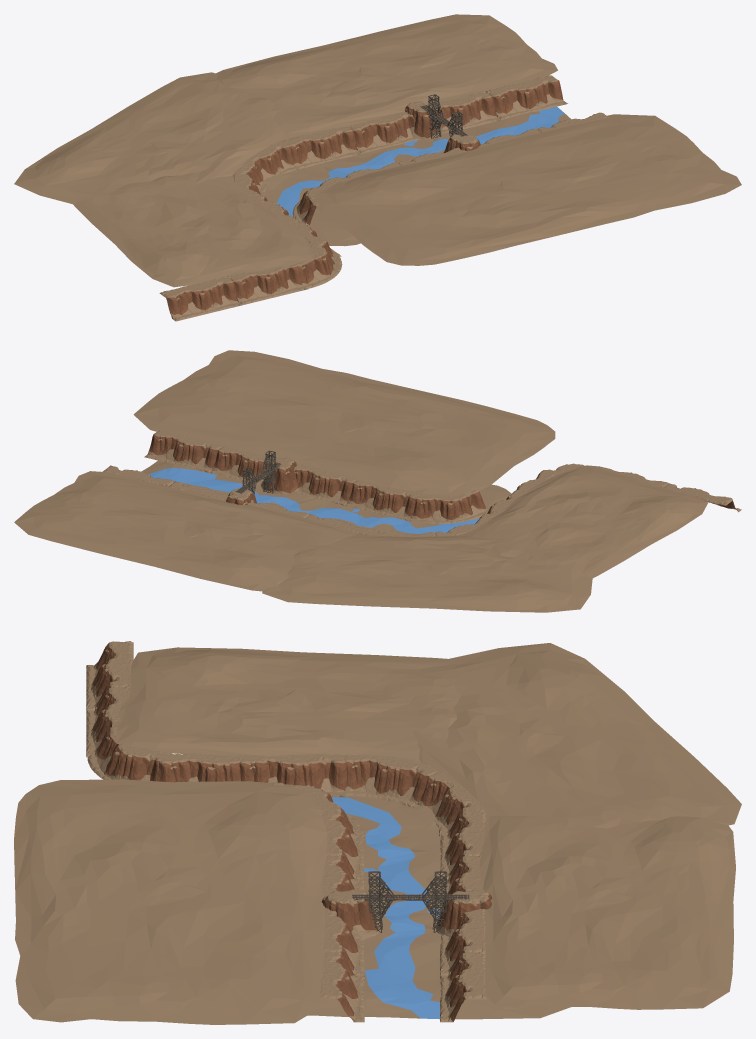
File: kopru.fbx
The picture shows the model from 3 angles, top to bottom: view 1: azimuth 30°, elevation 25°; view 2: azimuth 150°, elevation 25°; view 3: azimuth 270°, elevation 25°; orthographic projection. The views are drawn at different scales.
Parts seen in each view (by area): view 1: SM_Env_Sand_Ground_016, SM_Env_Sand_Ground_017, SM_Env_Sand_Ground_018, SM_Env_Sand_Ground_019, SM_Env_Sand_Ground_020, SM_Env_Sand_Ground_014, SM_Env_Cliff_Straight_019, SM_Env_Cliff_Straight_005, SM_Env_Cliff_Straight_006, SM_Env_Cliff_Straight_018, SM_Env_Cliff_Straight_013, SM_Env_Cliff_Straight_004 (+4 smaller); view 2: SM_Env_Sand_Ground_016, SM_Env_Sand_Ground_017, SM_Env_Sand_Ground_018, SM_Env_Sand_Ground_019, SM_Env_Sand_Ground_014, SM_Env_Sand_Ground_020, SM_Env_Cliff_Straight_009, SM_Env_Cliff_Straight_014, SM_Env_Cliff_Straight_010, SM_Env_Cliff_Straight_008, SM_Env_Cliff_Straight_007, SM_Env_Cliff_Cap_003 (+5 smaller); view 3: SM_Env_Sand_Ground_016, SM_Env_Sand_Ground_017, SM_Env_Sand_Ground_018, SM_Env_Sand_Ground_019, SM_Env_Sand_Ground_014, SM_Env_Sand_Ground_020, SM_Env_Cliff_Straight_013, SM_Env_Cliff_Straight_015, SM_Env_Cliff_Straight_016, SM_Env_Cliff_Straight_017, SM_Env_Cliff_Straight_005, SM_Env_Cliff_Straight_019 (+13 smaller).
Part boxes in pixels (box(x1,y1,x2,y2)): SM_Env_Sand_Ground_016: box(307, 114, 741, 265); SM_Env_Sand_Ground_017: box(216, 14, 557, 137); SM_Env_Sand_Ground_018: box(14, 72, 292, 206); SM_Env_Sand_Ground_019: box(73, 172, 314, 287); SM_Env_Sand_Ground_020: box(262, 137, 426, 246); SM_Env_Sand_Ground_014: box(351, 106, 570, 162); SM_Env_Cliff_Straight_019: box(159, 276, 242, 321); SM_Env_Cliff_Straight_005: box(485, 75, 567, 119); SM_Env_Cliff_Straight_006: box(281, 126, 361, 168); SM_Env_Cliff_Straight_018: box(227, 264, 308, 304); SM_Env_Cliff_Straight_013: box(233, 141, 299, 196); SM_Env_Cliff_Straight_004: box(347, 111, 420, 153); SM_Env_Sand_Ground_016: box(133, 350, 555, 499); SM_Env_Sand_Ground_017: box(14, 471, 355, 591); SM_Env_Sand_Ground_018: box(262, 533, 592, 612); SM_Env_Sand_Ground_019: box(458, 465, 708, 577); SM_Env_Sand_Ground_014: box(141, 460, 359, 512); SM_Env_Sand_Ground_020: box(266, 484, 511, 534); SM_Env_Cliff_Straight_009: box(144, 429, 220, 472); SM_Env_Cliff_Straight_014: box(409, 490, 488, 523); SM_Env_Cliff_Straight_010: box(345, 480, 420, 520); SM_Env_Cliff_Straight_008: box(293, 463, 356, 505); SM_Env_Cliff_Straight_007: box(209, 445, 273, 484); SM_Env_Cliff_Cap_003: box(261, 457, 297, 494); SM_Env_Sand_Ground_016: box(14, 779, 335, 1024); SM_Env_Sand_Ground_017: box(479, 815, 735, 1009); SM_Env_Sand_Ground_018: box(381, 643, 741, 828); SM_Env_Sand_Ground_019: box(110, 647, 460, 762); SM_Env_Sand_Ground_014: box(307, 868, 570, 1019); SM_Env_Sand_Ground_020: box(332, 796, 441, 928); SM_Env_Cliff_Straight_013: box(344, 754, 484, 836); SM_Env_Cliff_Straight_015: box(239, 753, 347, 797); SM_Env_Cliff_Straight_016: box(159, 753, 268, 782); SM_Env_Cliff_Straight_017: box(87, 729, 172, 781); SM_Env_Cliff_Straight_005: box(440, 951, 487, 1022); SM_Env_Cliff_Straight_019: box(86, 641, 133, 711).
Size of the model in its own units: 31086 by 2234 by 24930.
1 material, 1 textured.
